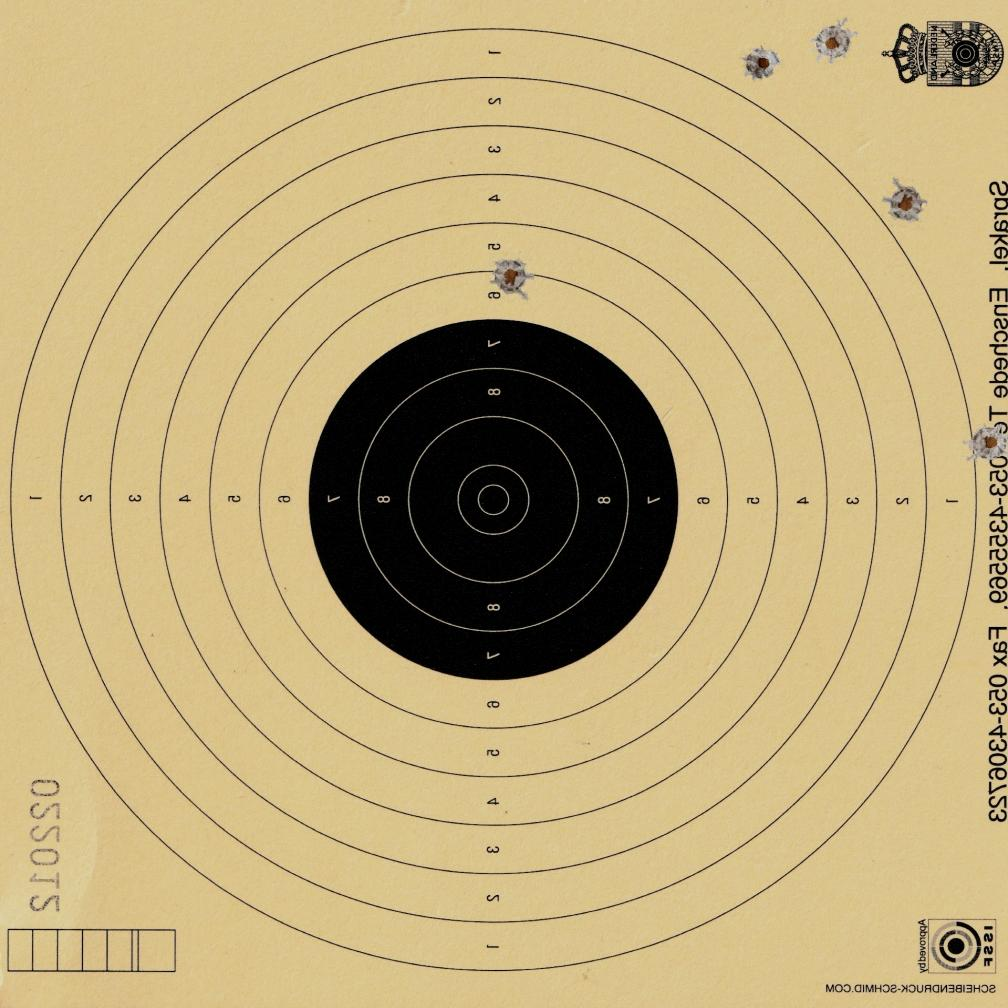0: (810, 17, 859, 65), (879, 178, 930, 224), (740, 42, 783, 83)
1: (961, 420, 1008, 465)
6: (485, 258, 538, 300)
Target: (8, 29, 984, 977)
black_contour: (311, 319, 681, 683)
